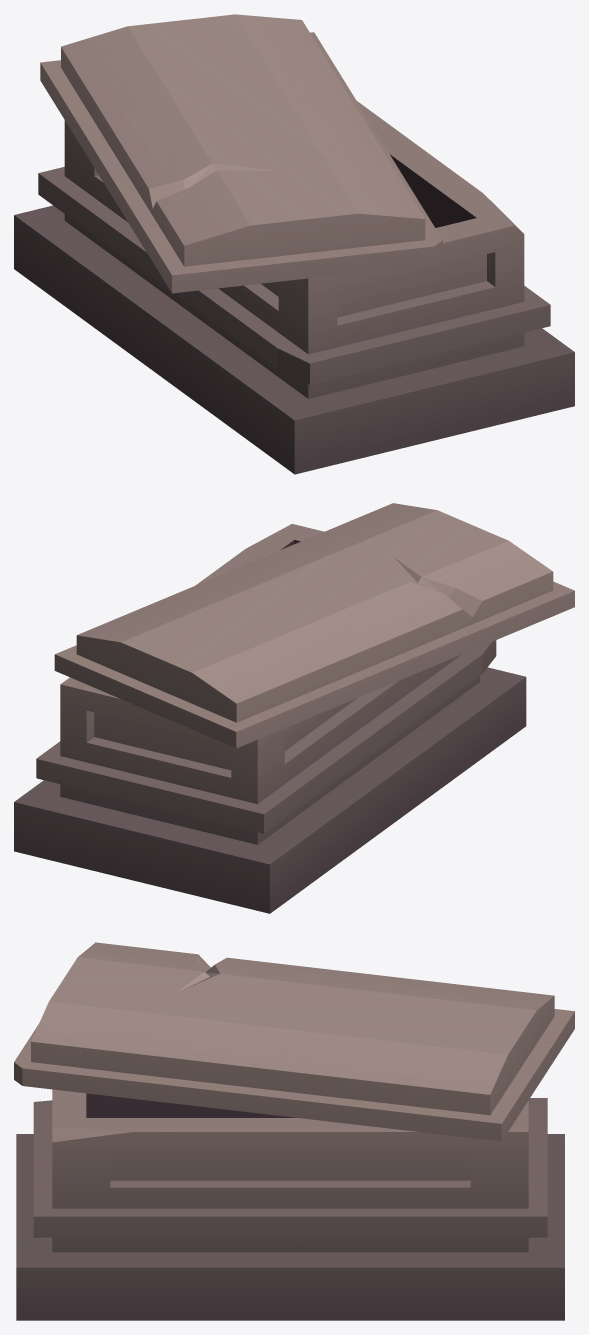
File: sarcophagusOpen.glb
3 views of the same model, one above another, from view 1: azimuth 30°, elevation 25°; view 2: azimuth 150°, elevation 25°; view 3: azimuth 270°, elevation 25° (orthographic). The views are drawn at different scales.
Visible parts, largest first — view 1: sarcophagusOpen; view 2: sarcophagusOpen; view 3: sarcophagusOpen.
Part boxes in pixels (bbox=[...]): sarcophagusOpen: bbox=[14, 14, 574, 474]; sarcophagusOpen: bbox=[14, 503, 574, 913]; sarcophagusOpen: bbox=[14, 942, 574, 1320].
Bounding box in the file's own units: 1.28 × 0.7608 × 1.73.
Materials: 1 (1 with a texture image).
